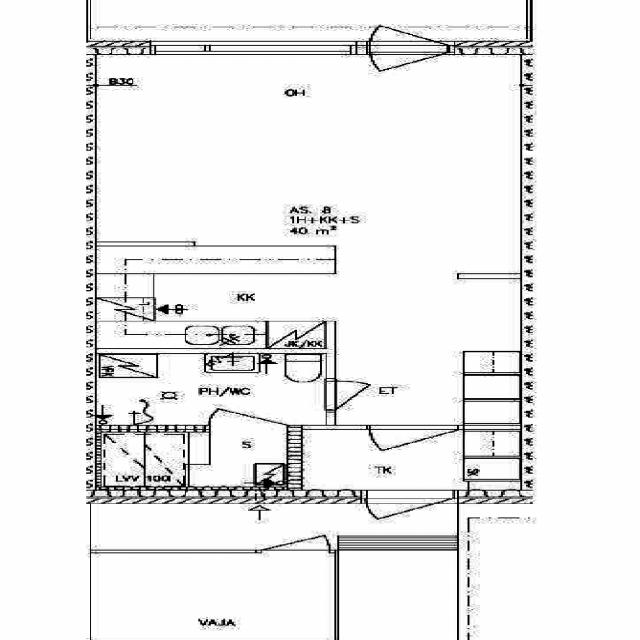door: (366, 490, 452, 544), (370, 41, 454, 94), (370, 1, 454, 54), (370, 424, 458, 472), (211, 389, 286, 432), (260, 517, 330, 553), (325, 381, 393, 408)
